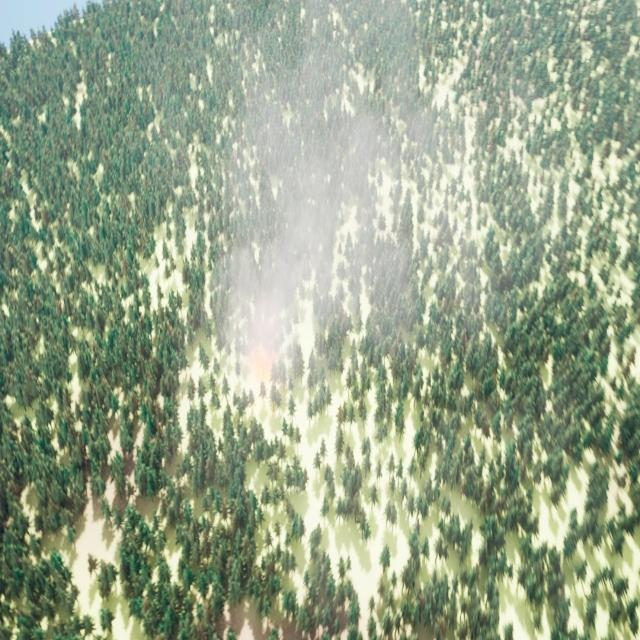fire: (248, 343, 276, 377)
smoke: (214, 0, 462, 439)
